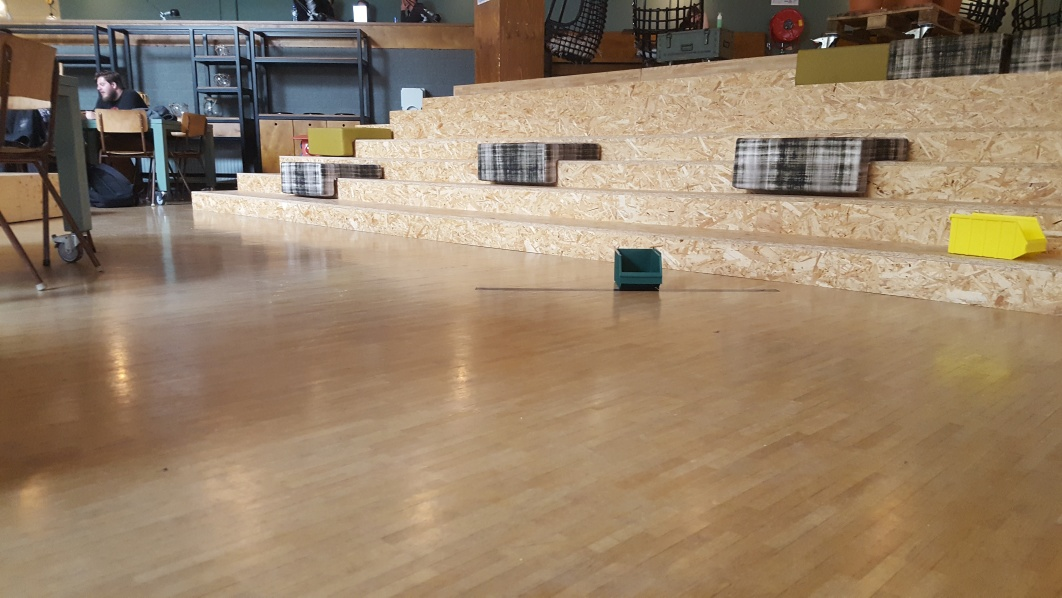tray: (943, 212, 1047, 261), (609, 247, 666, 289)
